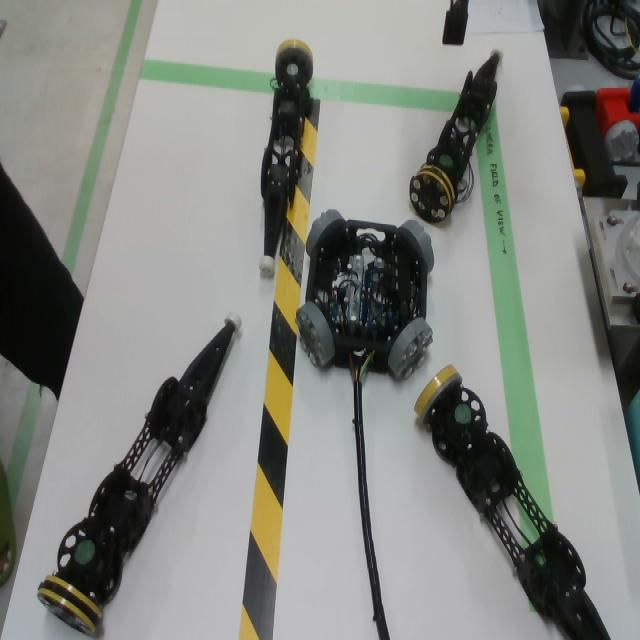body: (305, 220, 427, 375)
body_connector: (388, 317, 434, 381), (295, 301, 336, 367), (399, 220, 435, 275), (306, 209, 345, 257)
leg: (36, 309, 243, 636), (414, 364, 612, 640), (408, 45, 505, 224), (258, 39, 313, 280)
leg_connector: (37, 576, 102, 636), (414, 364, 463, 425), (409, 164, 456, 224), (275, 39, 314, 83)
leg_marker: (74, 540, 96, 565), (455, 403, 471, 423), (439, 153, 454, 167), (286, 63, 298, 77)
